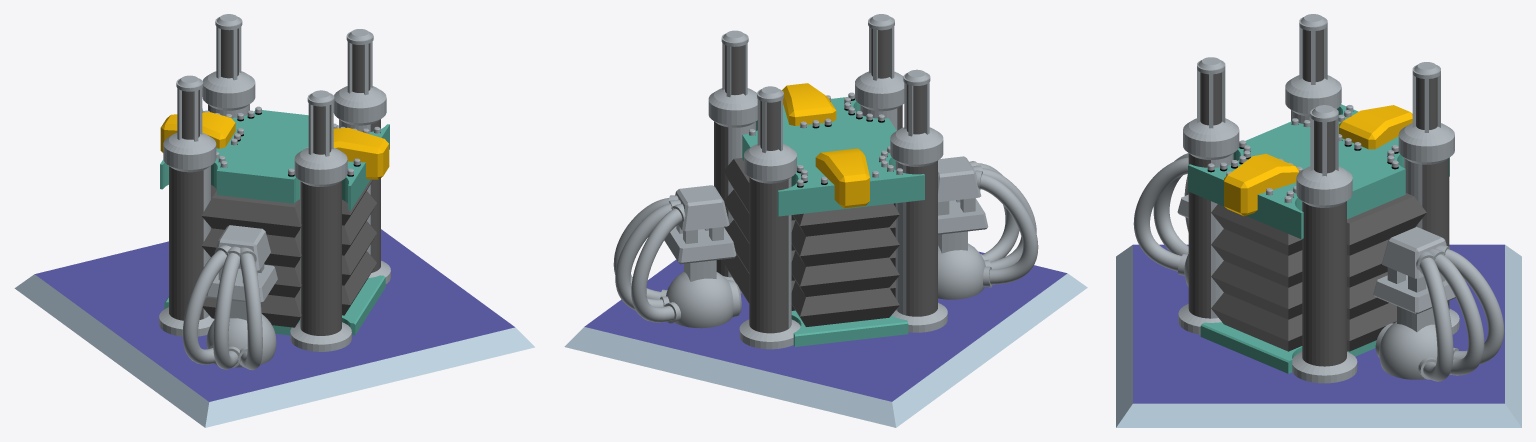
File: 72_Haarvester_FOMO8.fbx
3 views of the same model, side by side, from view 1: azimuth 30°, elevation 25°; view 2: azimuth 150°, elevation 25°; view 3: azimuth 270°, elevation 25° (orthographic). The views are drawn at different scales.
Visible parts, largest first — view 1: foundation8, polySurface58, polySurface57, pCube121, pCube120, pCube122, pCylinder139, pCylinder103, polySurface65, pCylinder104, pCube141, pCylinder188 (+6 smaller); view 2: foundation8, polySurface58, pCube120, polySurface57, pCube122 (×2), pSphere58, pCylinder139 (×2), pCylinder104 (×2), pCube121, pCylinder103 (×2), pSphere57, pCube142 (+7 smaller); view 3: foundation8, polySurface58, pCube120, polySurface57, pCube121, pCylinder104 (×2), pCylinder103 (×2), pSphere58, pCube122, pCube141, pCylinder139, polySurface62 (+7 smaller).
Boxes of the visible parts, bbox=[...] form: foundation8: bbox=[14, 229, 534, 427]; polySurface58: bbox=[163, 71, 386, 335]; polySurface57: bbox=[160, 110, 389, 210]; pCube121: bbox=[201, 190, 301, 327]; pCube120: bbox=[211, 179, 376, 315]; pCube122: bbox=[206, 225, 277, 303]; pCylinder139: bbox=[182, 245, 231, 364]; pCylinder103: bbox=[213, 246, 241, 369]; polySurface65: bbox=[159, 260, 390, 351]; pCylinder104: bbox=[238, 247, 262, 370]; pCube141: bbox=[333, 127, 389, 179]; pCylinder188: bbox=[307, 90, 334, 156]; foundation8: bbox=[564, 251, 1087, 427]; polySurface58: bbox=[708, 71, 943, 333]; pCube120: bbox=[791, 203, 899, 326]; polySurface57: bbox=[742, 97, 924, 216]; pCube122 (×2): bbox=[664, 156, 988, 264]; pSphere58: bbox=[666, 260, 741, 328]; pCylinder139 (×2): bbox=[613, 170, 1038, 299]; pCylinder104 (×2): bbox=[631, 161, 1019, 323]; pCube121: bbox=[723, 158, 895, 310]; pCylinder103 (×2): bbox=[615, 165, 1036, 310]; pSphere57: bbox=[938, 231, 985, 299]; pCube142: bbox=[815, 148, 869, 208]; foundation8: bbox=[1116, 244, 1521, 427]; polySurface58: bbox=[1183, 75, 1454, 366]; pCube120: bbox=[1211, 204, 1302, 351]; polySurface57: bbox=[1188, 104, 1449, 239]; pCube121: bbox=[1347, 193, 1426, 351]; pCylinder104 (×2): bbox=[1133, 157, 1504, 364]; pCylinder103 (×2): bbox=[1153, 153, 1484, 375]; pSphere58: bbox=[1375, 306, 1437, 379]; pCube122: bbox=[1373, 227, 1455, 314]; pCube141: bbox=[1224, 153, 1298, 216]; pCylinder139: bbox=[1416, 251, 1453, 381]; polySurface62: bbox=[1200, 322, 1376, 373].
Bounding box in the file's own units: 2 × 1.53 × 2.
